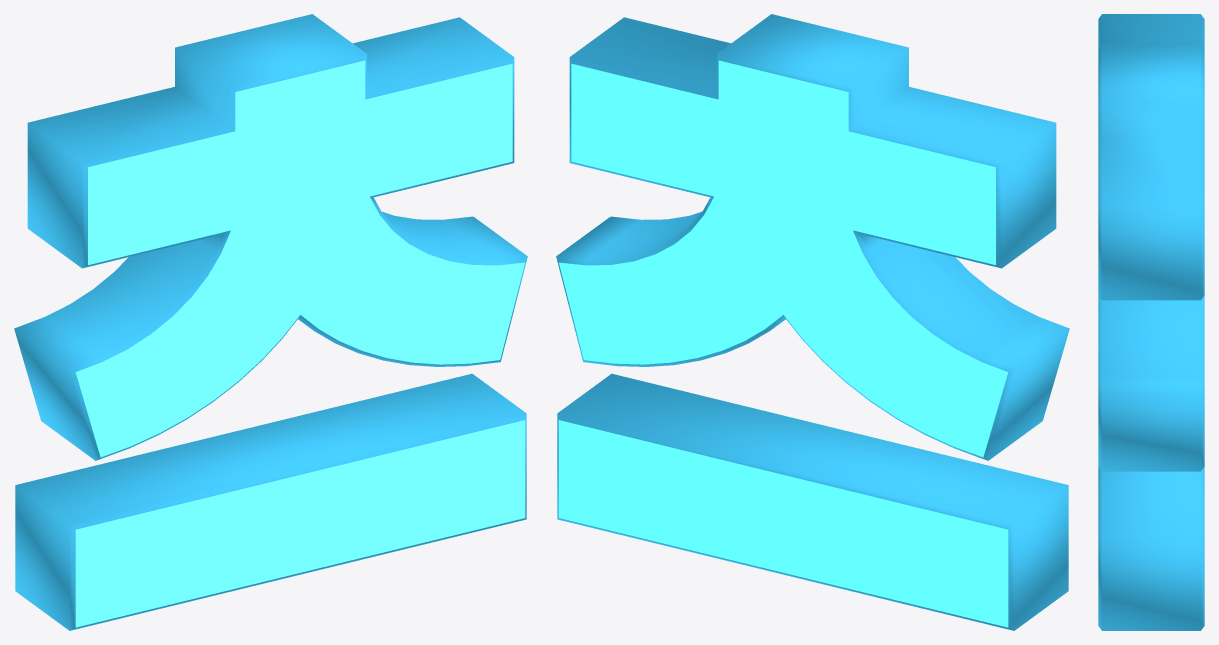
3 renders of one model, left to right at view 1: azimuth 30°, elevation 25°; view 2: azimuth 150°, elevation 25°; view 3: azimuth 270°, elevation 25°, orthographic. The views are drawn at different scales.
Parts seen in each view (by area): view 1: glyph; view 2: glyph; view 3: glyph.
Boxes of the visible parts, x1,y1,x2,y2 form: glyph: (14,14,527,630); glyph: (556,14,1069,630); glyph: (1098,14,1204,630).
Size of the model in its own units: 0.073 by 0.0766 by 0.0162.
